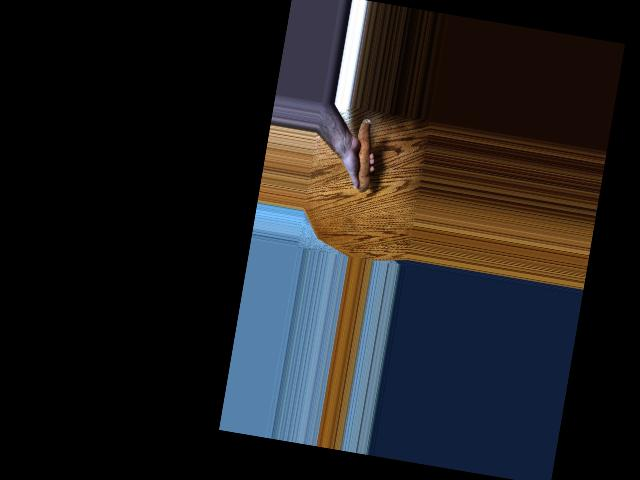sweet_potato: (347, 118, 382, 192)
